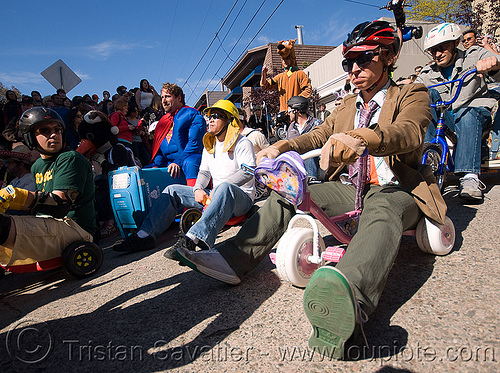helmet: (335, 23, 397, 55), (17, 109, 69, 133), (422, 25, 468, 46), (210, 99, 246, 114)
